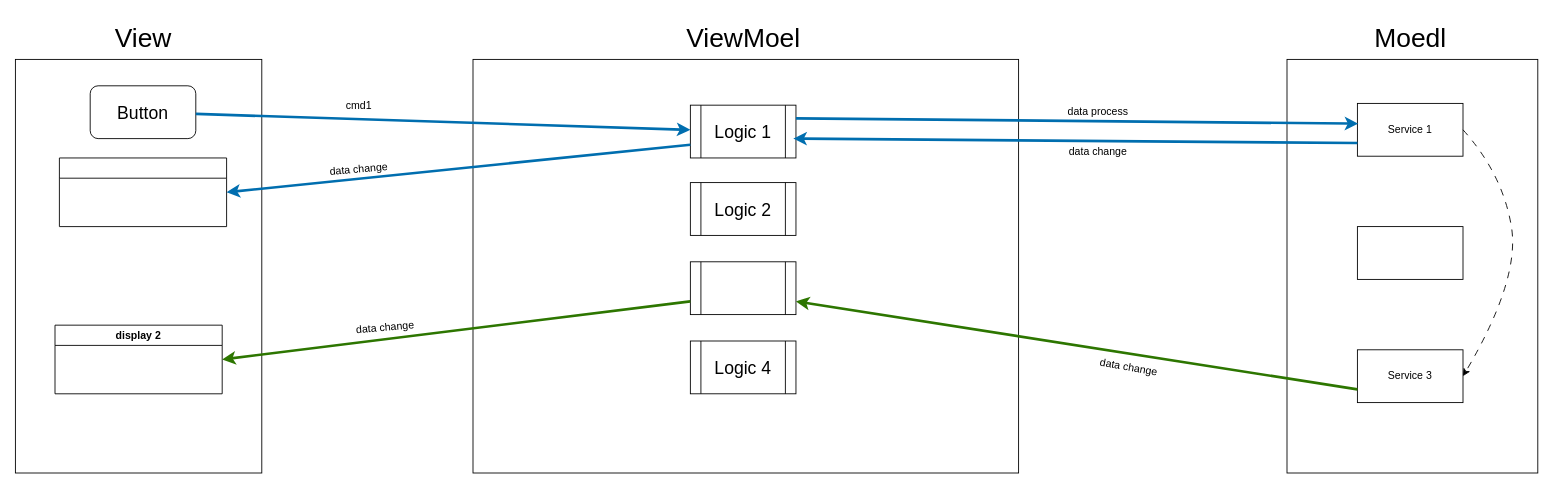
Image size: 1553x488. Some labels were removed from this diagram. Here are the shapes that lost their labels. From the top down, the centre of each, then its label:
(x=143, y=192): display 1
(x=1410, y=252): Service 2
(x=742, y=288): Logic 3
